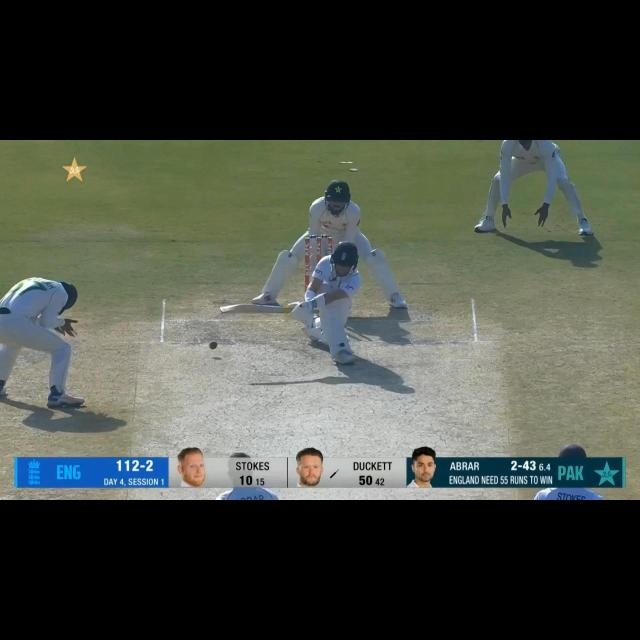bat: (216, 299, 294, 319)
toe: (218, 304, 234, 314)
